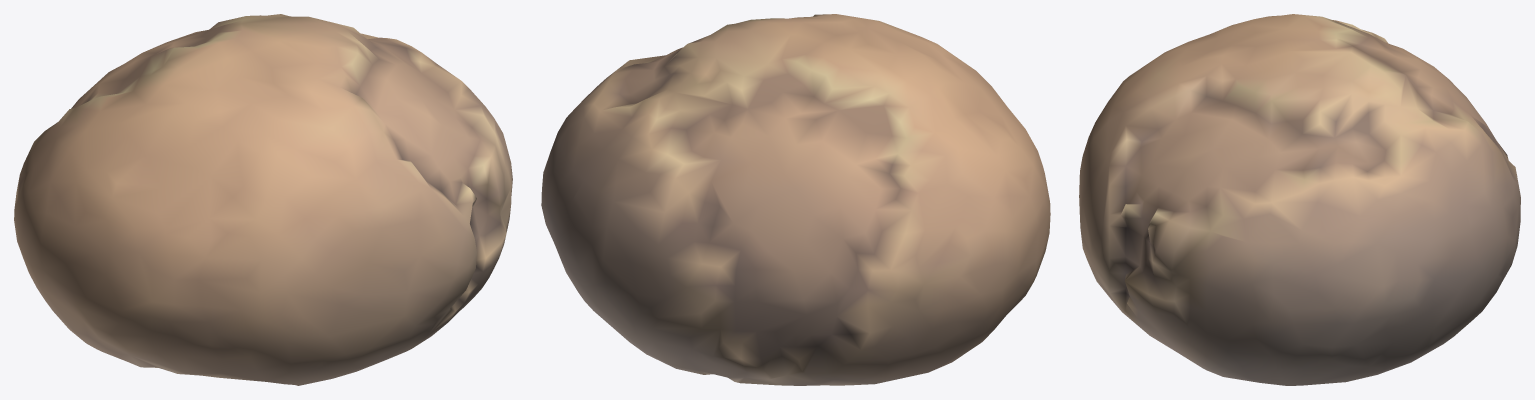
The model's file is env_fr_rock.glb.
3 views of the same model, side by side, from view 1: azimuth 30°, elevation 25°; view 2: azimuth 150°, elevation 25°; view 3: azimuth 270°, elevation 25° (orthographic). The views are drawn at different scales.
Visible parts, largest first — view 1: geometry_0; view 2: geometry_0; view 3: geometry_0.
Boxes of the visible parts, x1=… form: geometry_0: x1=14, y1=14, x2=512, y2=385; geometry_0: x1=541, y1=14, x2=1050, y2=385; geometry_0: x1=1079, y1=14, x2=1520, y2=385.
Size of the model in its own units: 2.71 by 1.63 by 2.45.
